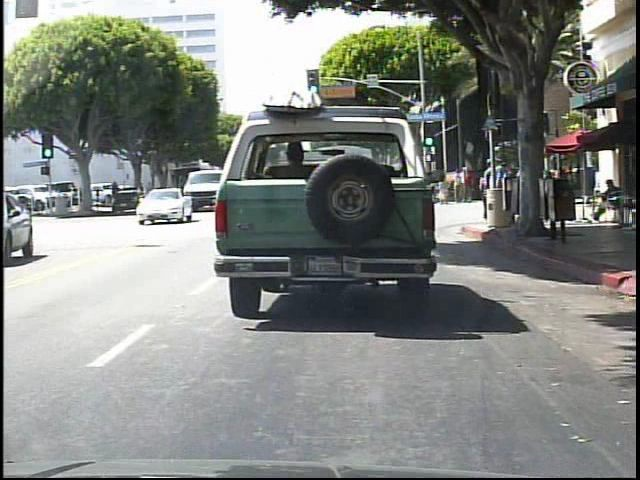person: (591, 174, 626, 222), (493, 157, 510, 222), (479, 159, 496, 220), (492, 161, 508, 219), (519, 165, 536, 216), (535, 163, 549, 206), (463, 164, 475, 204), (439, 170, 449, 205), (455, 169, 465, 203), (429, 177, 439, 206)
